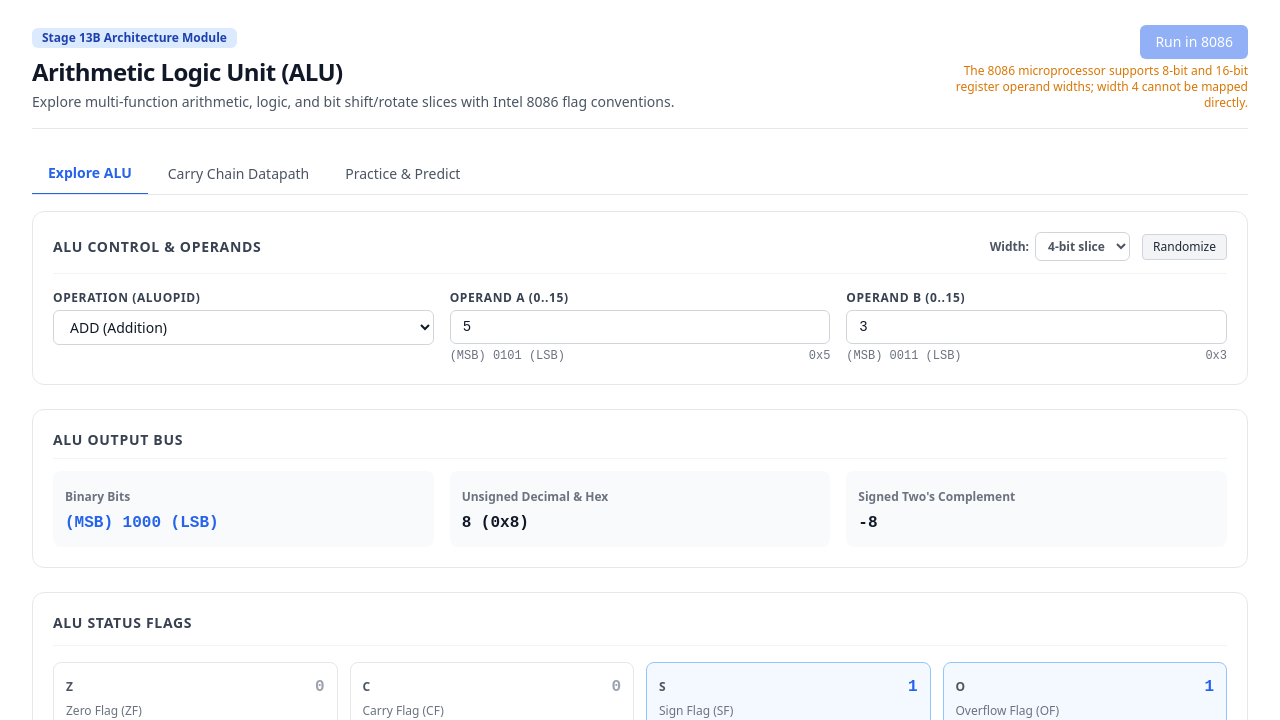
Test: AluPage › shows discarded result banner and comparison relations table for CMP
Select "CMP (Compare: A - B, flags only)" in the dropdown named "ALU Operation" at {"x": 243, "y": 328}, box [53, 310, 434, 345]
(page scrolled)
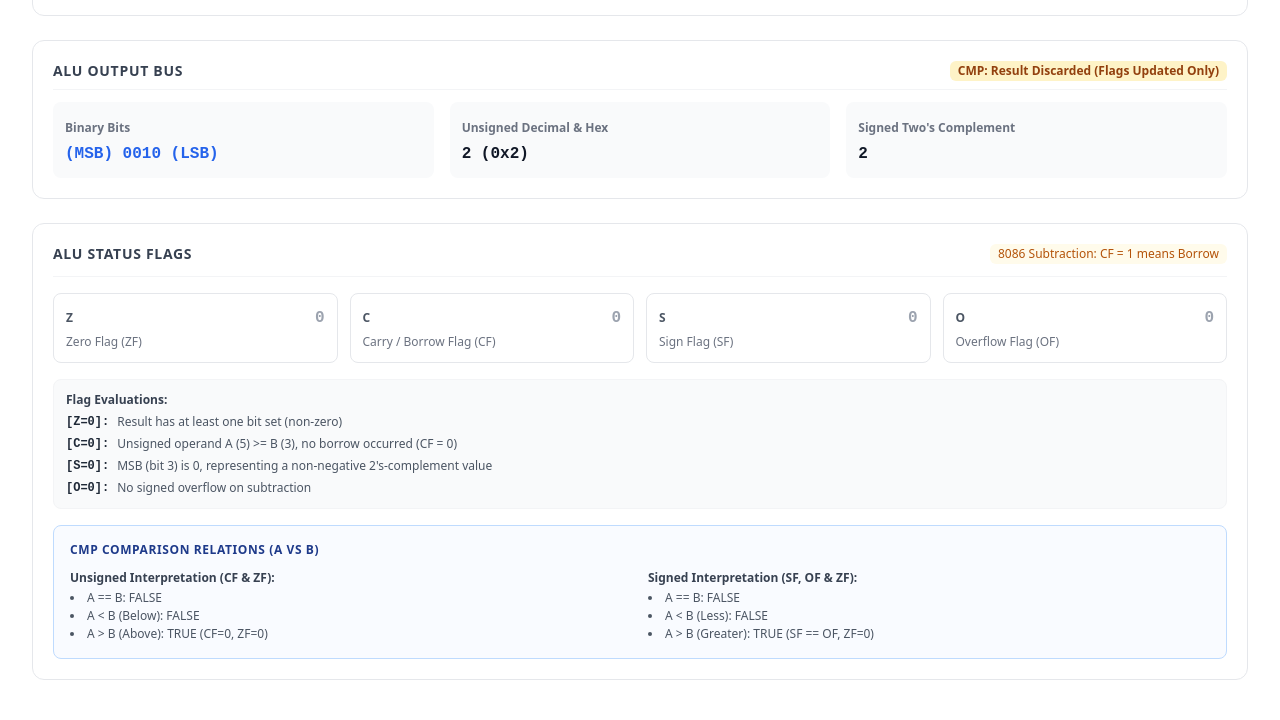
Check: the text "CMP: Result Discarded (Flags Updated Only)" is shown, box [950, 61, 1227, 81]
Check: the heading "CMP Comparison Relations (A vs B)" is shown, box [70, 541, 319, 558]
